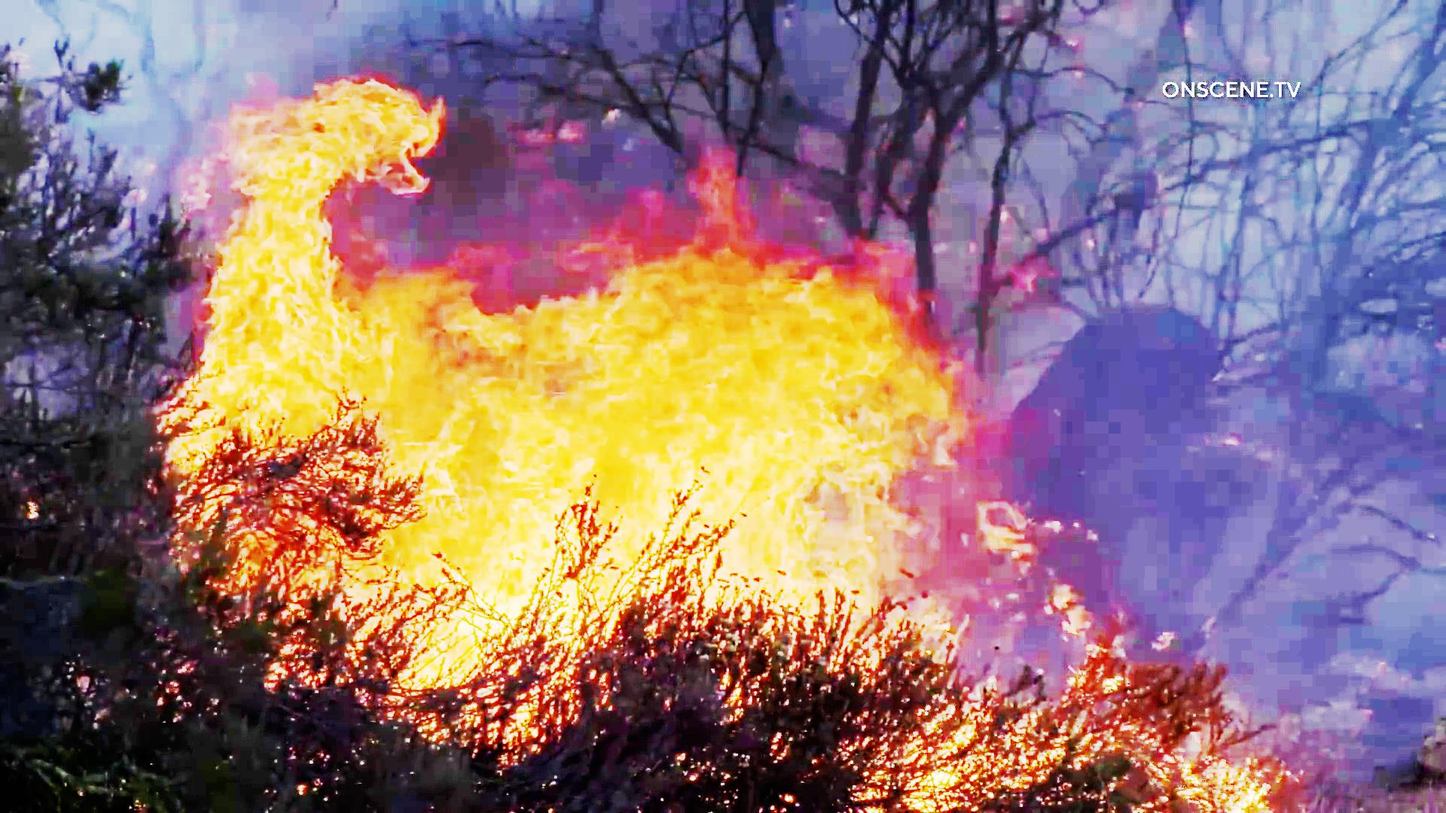fire: (219, 91, 898, 601)
